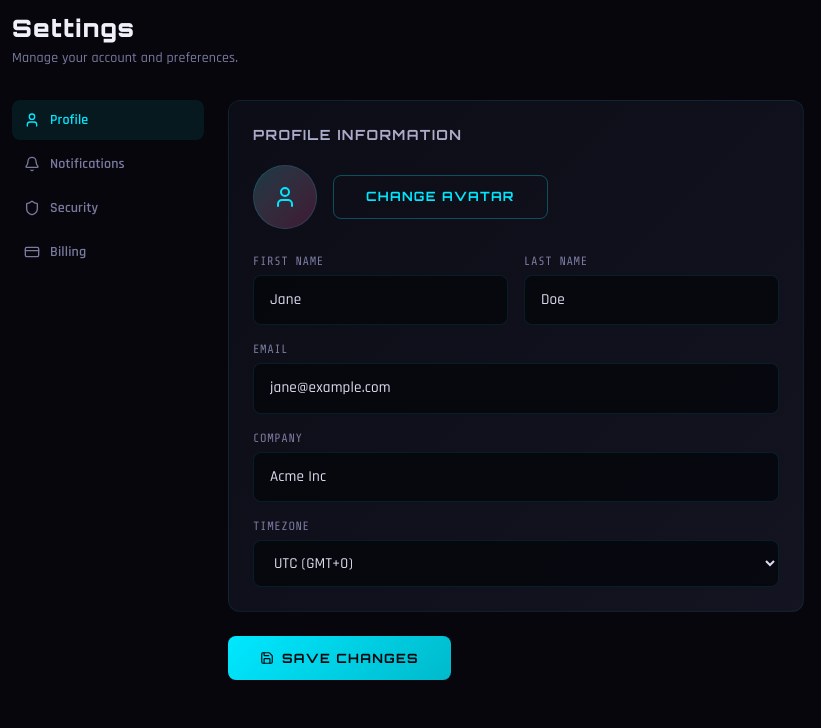
Scenario: Settings › switches to security tab on click
Click the button "Security": (108, 208) [12,188,204,228]
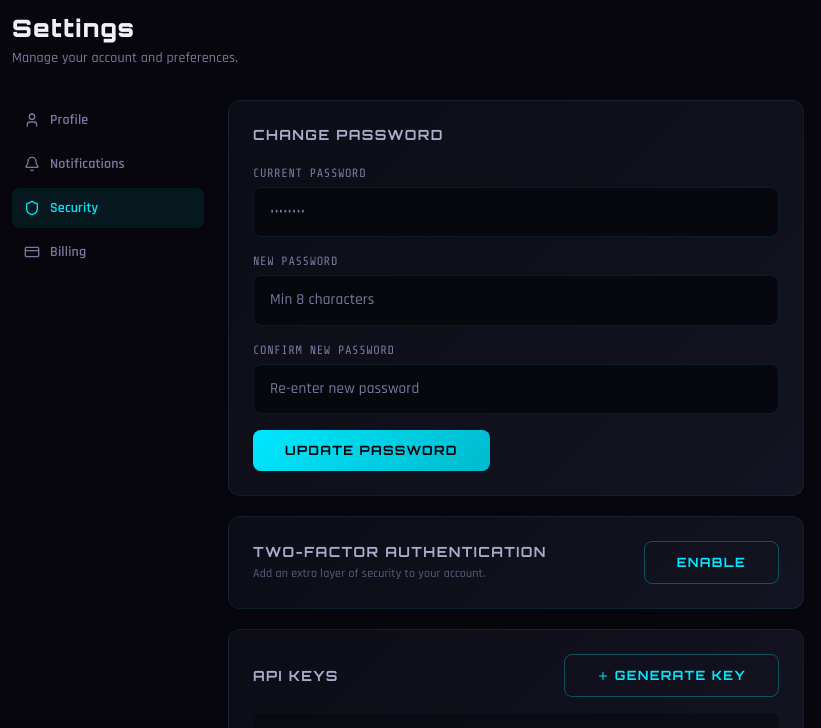
Now the heading "Change Password" is shown, box [253,126,444,143]
